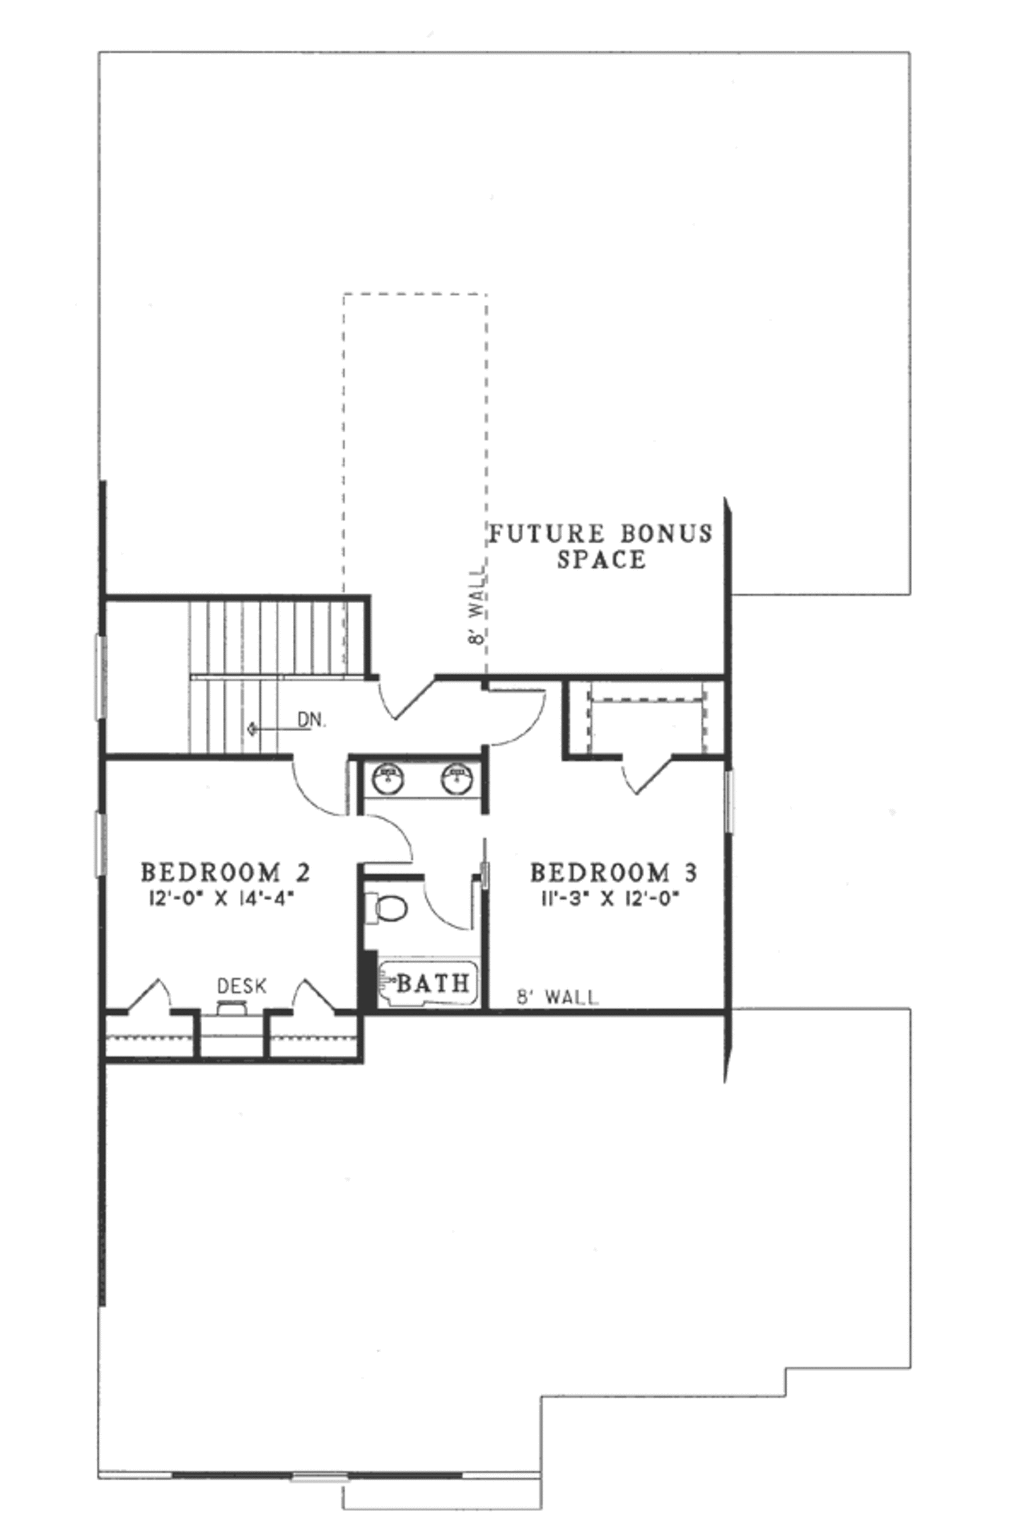door: (615, 749, 725, 811), (478, 683, 549, 761), (290, 747, 355, 824), (362, 663, 432, 719), (355, 810, 408, 875), (425, 875, 478, 935), (125, 975, 174, 1024), (294, 979, 336, 1019)
large_sink: (347, 886, 411, 935)
small_sink: (360, 761, 488, 805)
stairs: (113, 603, 363, 758)
tub: (376, 955, 497, 1010)
window: (85, 811, 115, 891), (94, 638, 107, 726)
